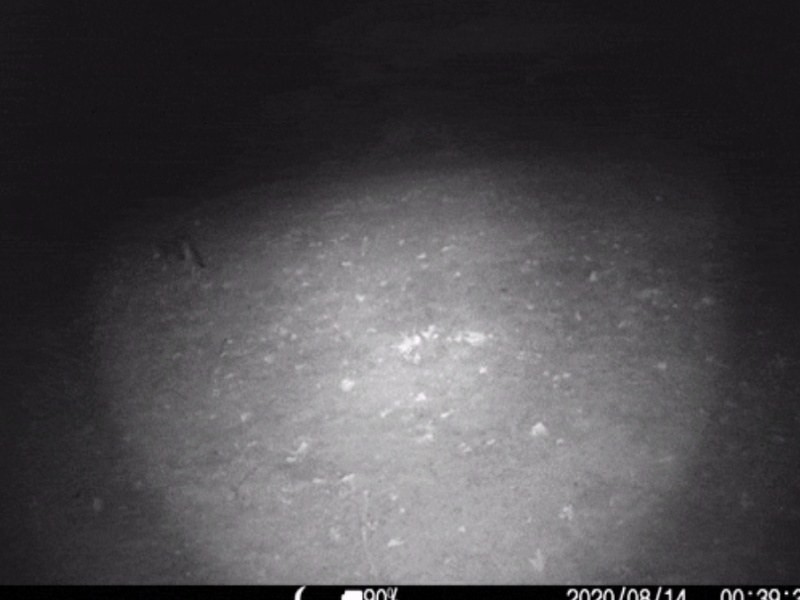cat: (148, 235, 207, 271)
